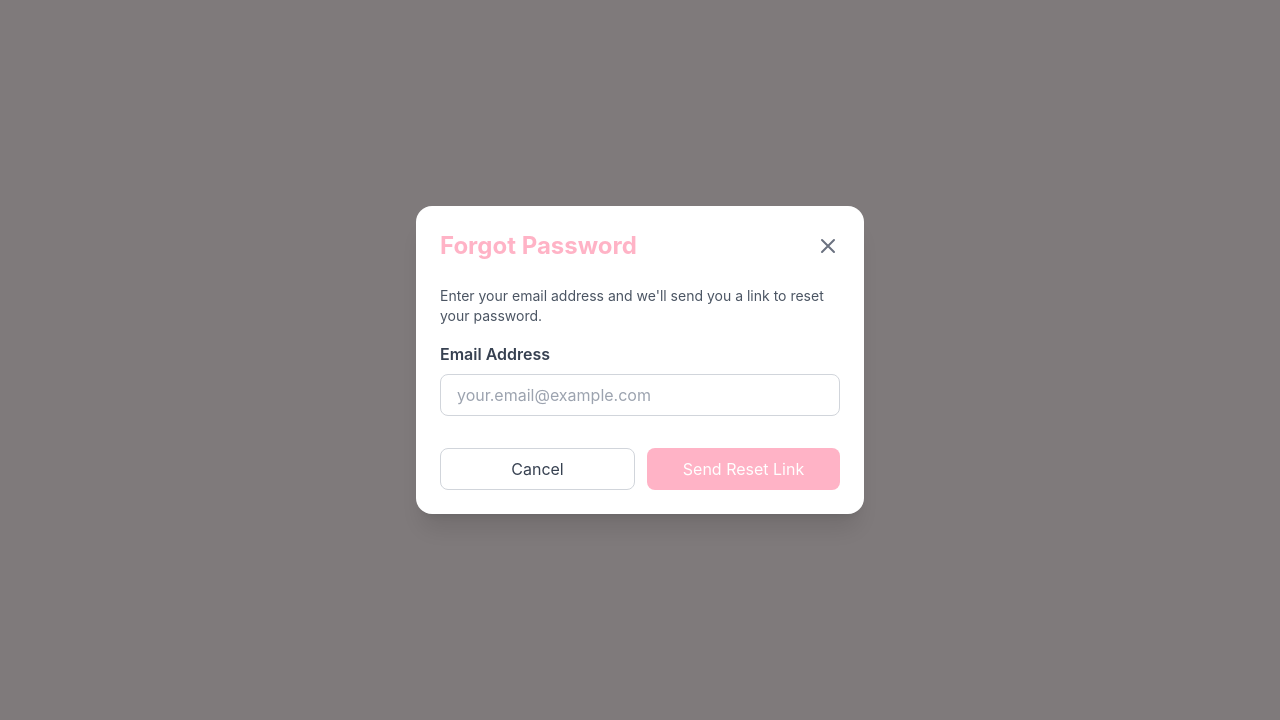
Test case: ForgotPasswordModal › Loading State › shows loading text during submission
In the field with placeholder "your.email@example.com": point(640, 395) [440,374,840,416], type "test@example.com"
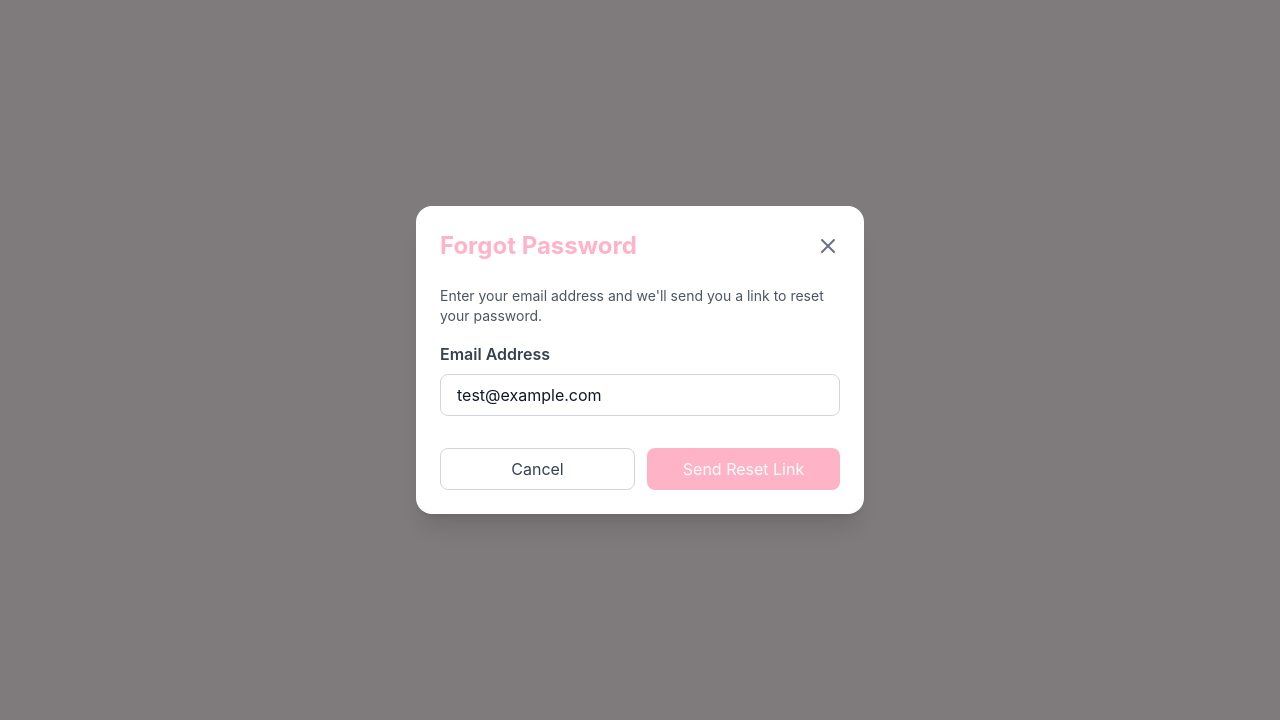
Click the button "Send Reset Link": point(744, 469) [647,448,840,490]
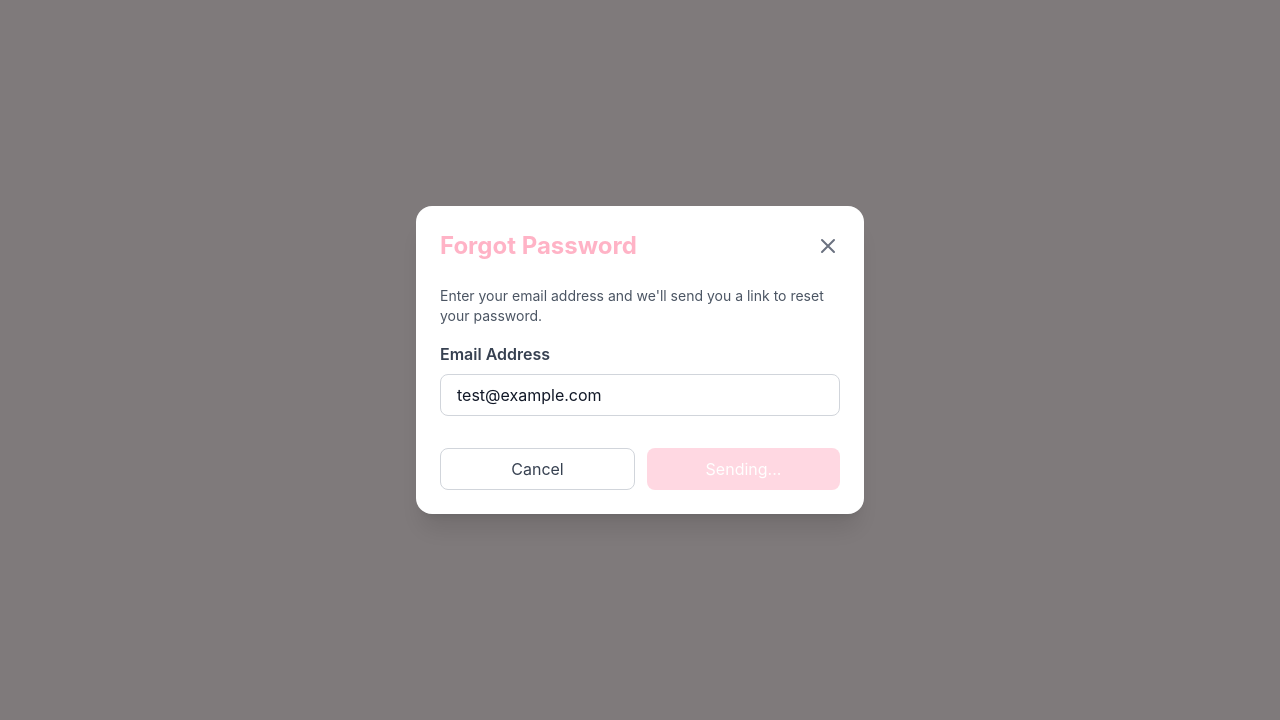
Now the button "Sending..." is shown, box [647,448,840,490]
